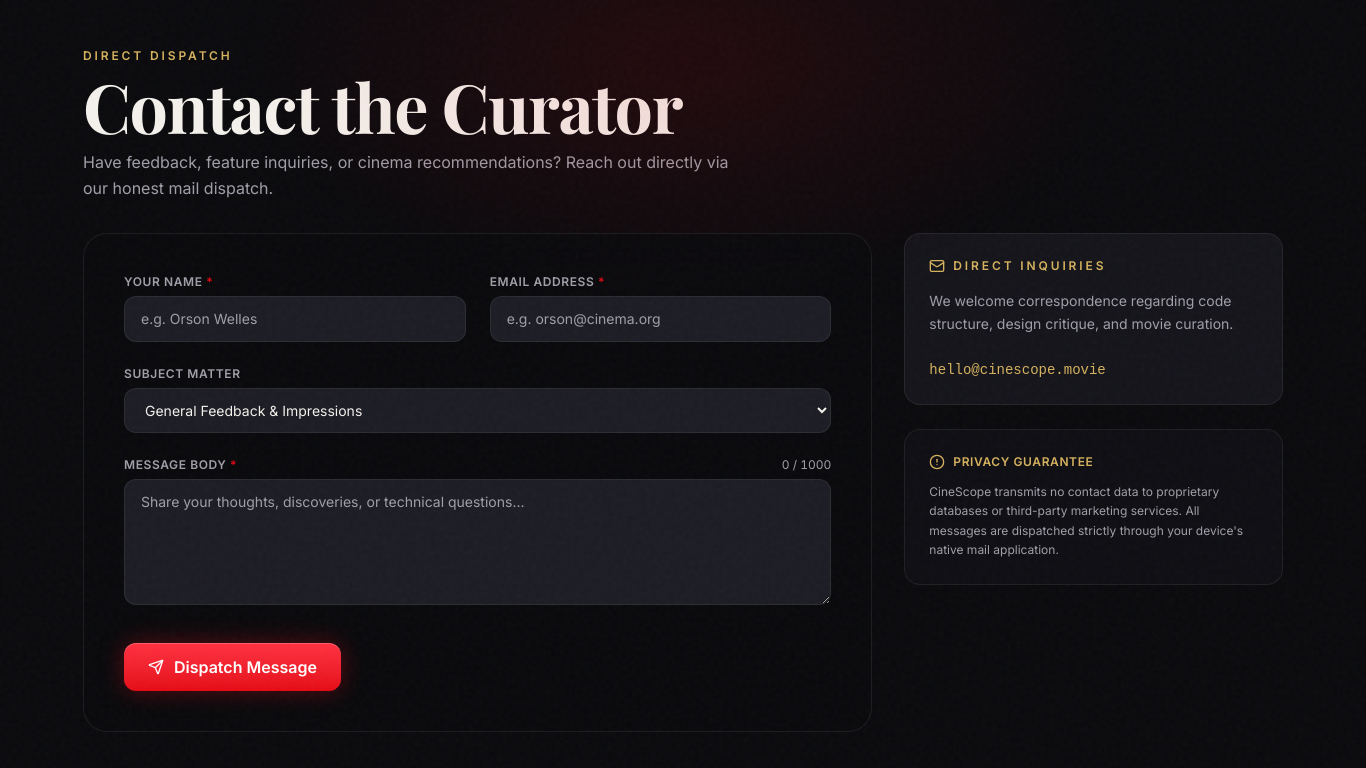
Test: Contact Page › updates live character counter as user types in message textarea
The width and height of the screenshot is (1366, 768).
Type "A thoughtful cinema review note." into the text box labelled "Message Body *" at (478, 542), box top-left (124, 479), bottom-right (831, 605)
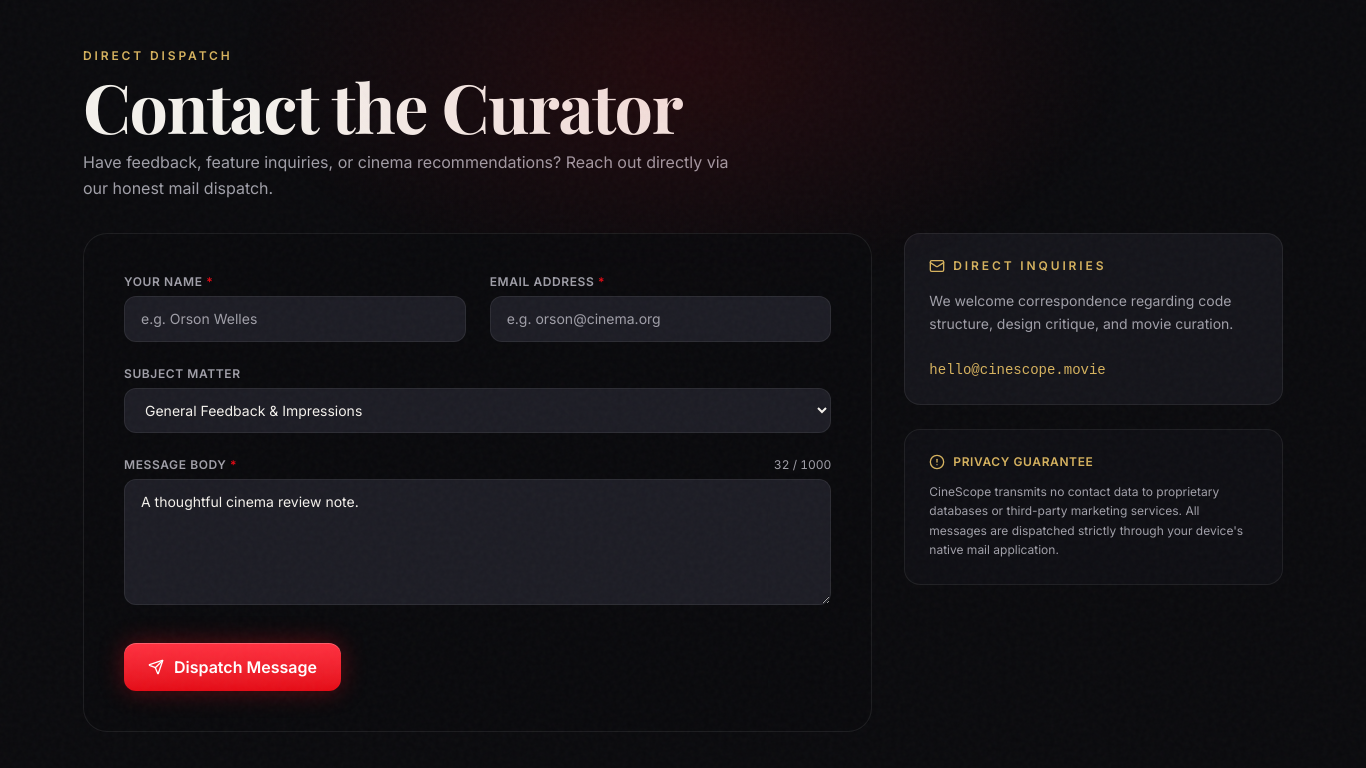
Check: the text "32 / 1000" is shown, box top-left (774, 457), bottom-right (831, 473)
